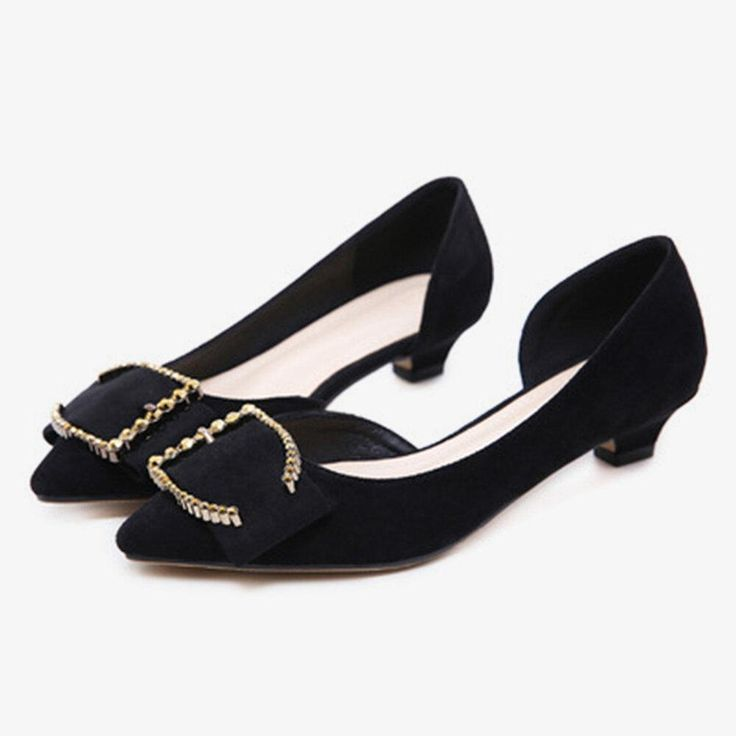gamuza: (29, 176, 707, 573)
